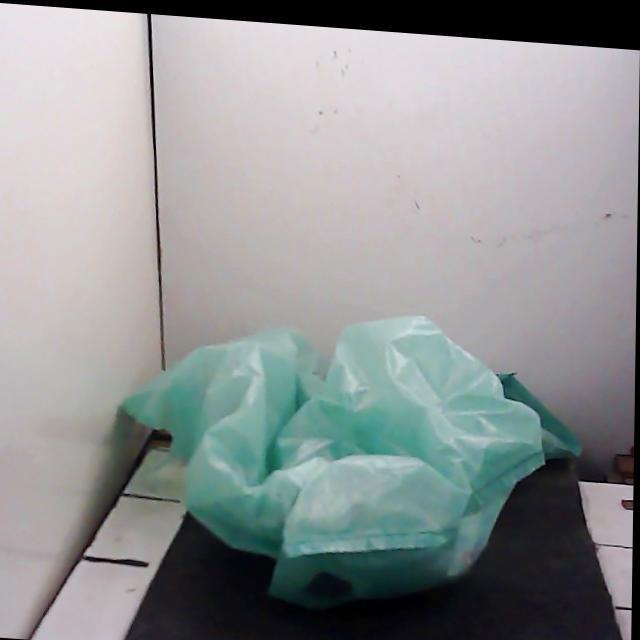plastico: (124, 316, 546, 607)
